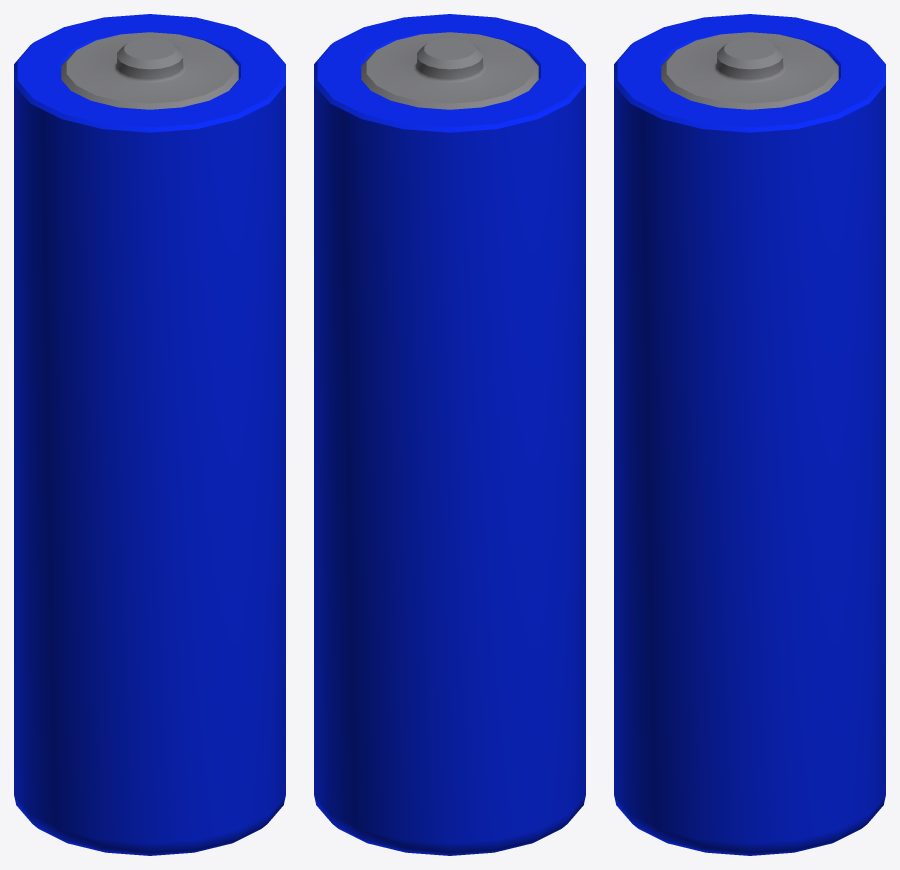
The model's file is battery_01.FBX.
3 renders of one model, left to right at view 1: azimuth 30°, elevation 25°; view 2: azimuth 150°, elevation 25°; view 3: azimuth 270°, elevation 25°, orthographic.
Parts seen in each view (by area): view 1: Cylinder060, Group001; view 2: Cylinder060, Group001; view 3: Cylinder060, Group001.
Boxes of the visible parts, <box> form: Cylinder060: <box>14,14,285,855</box>; Group001: <box>61,32,238,109</box>; Cylinder060: <box>314,14,585,855</box>; Group001: <box>361,32,538,109</box>; Cylinder060: <box>614,14,885,855</box>; Group001: <box>661,32,838,109</box>.
Bounding box in the file's own units: 13.53 × 40.8 × 13.33.
